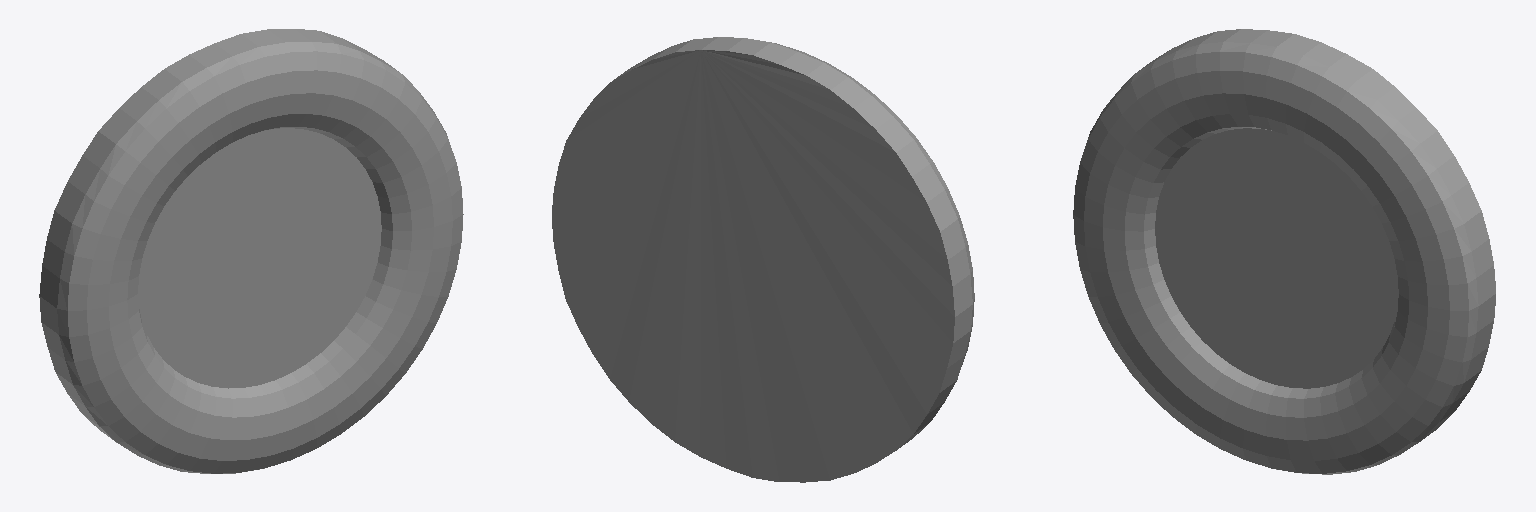
Rendered from rondelleE.obj.
The picture shows the model from 3 angles: view 1: azimuth 30°, elevation 25°; view 2: azimuth 150°, elevation 25°; view 3: azimuth 330°, elevation 25°; orthographic projection.
Parts seen in each view (by area): view 1: Torus; view 2: Torus; view 3: Torus.
Boxes of the visible parts, <box> form: Torus: <box>39,29,463,473</box>; Torus: <box>552,37,974,482</box>; Torus: <box>1073,29,1495,474</box>.
Size of the model in its own units: 1.46 by 1.46 by 0.1877.